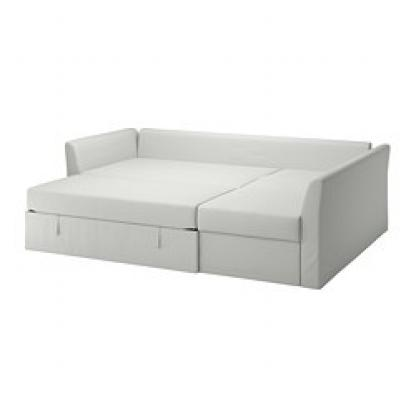Sofa: (16, 80, 392, 298)
